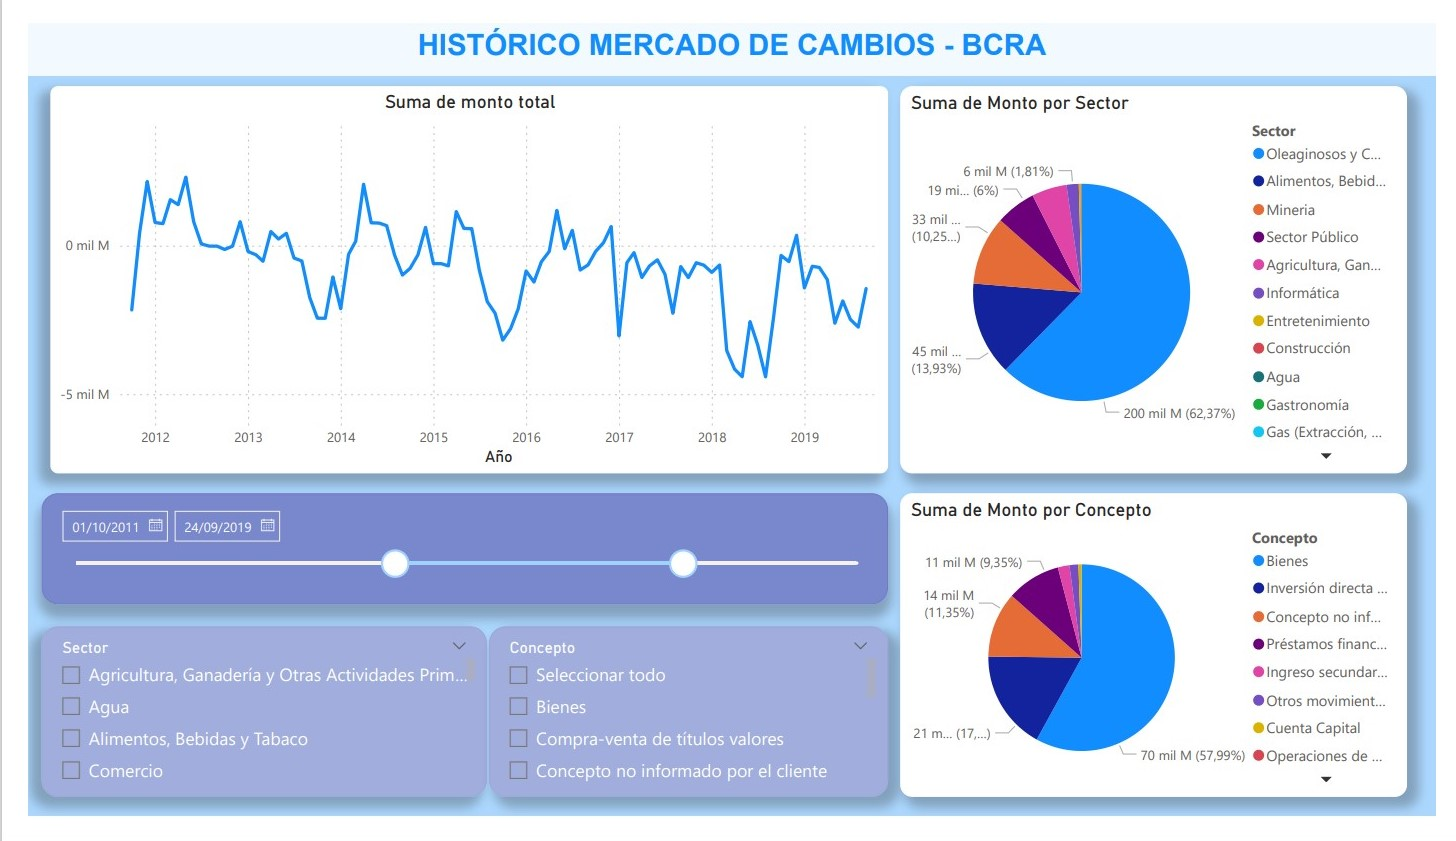

This screenshot's page, from the dashboard's own definition file:
{"tool":"powerbi","page":{"name":"Página 1","canvas":[1280,720],"ordinal":0},"visuals":[{"type":"lineChart","title":"Suma de monto total","fields":{"Y":["Sum(Datos Mercado de Cambios.Monto)","Sum(Datos Mercado de Cambios.Monto)"],"Category":["Datos Mercado de Cambios.Mes.Variación.Jerarquía de fechas.Año","Datos Mercado de Cambios.Mes.Variación.Jerarquía de fechas.Trimestre","Datos Mercado de Cambios.Mes.Variación.Jerarquía de fechas.Mes","Datos Mercado de Cambios.Mes.Variación.Jerarquía de fechas.Día"]},"box":[20.4,57.4,761.6,352.1],"z":0},{"type":"slicer","fields":{"Values":["Datos Mercado de Cambios.Sector"]},"box":[11.7,547.6,405.6,155.6],"z":1000},{"type":"slicer","fields":{"Values":["Datos Mercado de Cambios.B"]},"box":[419.2,547.6,362.8,155.6],"z":2000},{"type":"pieChart","fields":{"Category":["Datos Mercado de Cambios.Sector"],"Y":["Sum(Datos Mercado de Cambios.Monto)"]},"box":[792.7,57.4,461,352.1],"z":3000},{"type":"slicer","fields":{"Values":["Datos Mercado de Cambios.Mes"]},"box":[11.7,427,770.3,101.2],"z":4000},{"type":"textbox","box":[0,0,1280,47.7],"z":5000},{"type":"pieChart","fields":{"Category":["Datos Mercado de Cambios.B"],"Y":["Sum(Datos Mercado de Cambios.Monto)"]},"box":[792.7,427,461,276.2],"z":6000}]}

Visuals, with their boxes in screenshot pixels (x1, y1, x2, y2), scaled from the page's 1280x720 canvas onto the 1456x841 screenshot:
"Suma de monto total" lineChart: crop(23, 67, 890, 478)
slicer - Datos Mercado de Cambios.Sector: crop(13, 640, 475, 821)
slicer - Datos Mercado de Cambios.B: crop(477, 640, 890, 821)
pieChart - Datos Mercado de Cambios.Sector x Sum(Datos Mercado de Cambios.Monto): crop(902, 67, 1426, 478)
slicer - Datos Mercado de Cambios.Mes: crop(13, 499, 890, 617)
textbox: crop(0, 0, 1455, 56)
pieChart - Datos Mercado de Cambios.B x Sum(Datos Mercado de Cambios.Monto): crop(902, 499, 1426, 821)
